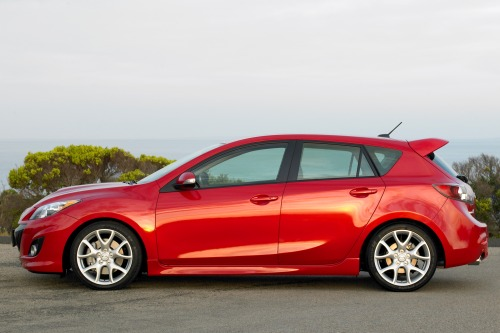Mazda3 Hatchback: (12, 132, 490, 294)
